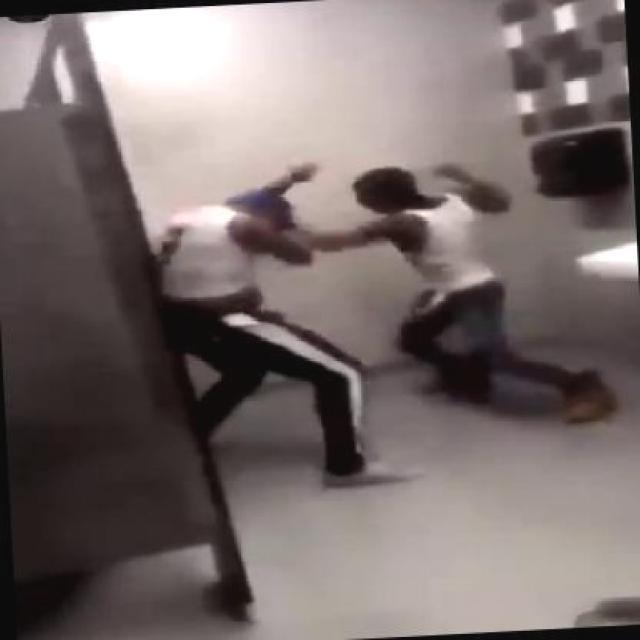fight: (166, 144, 597, 480)
